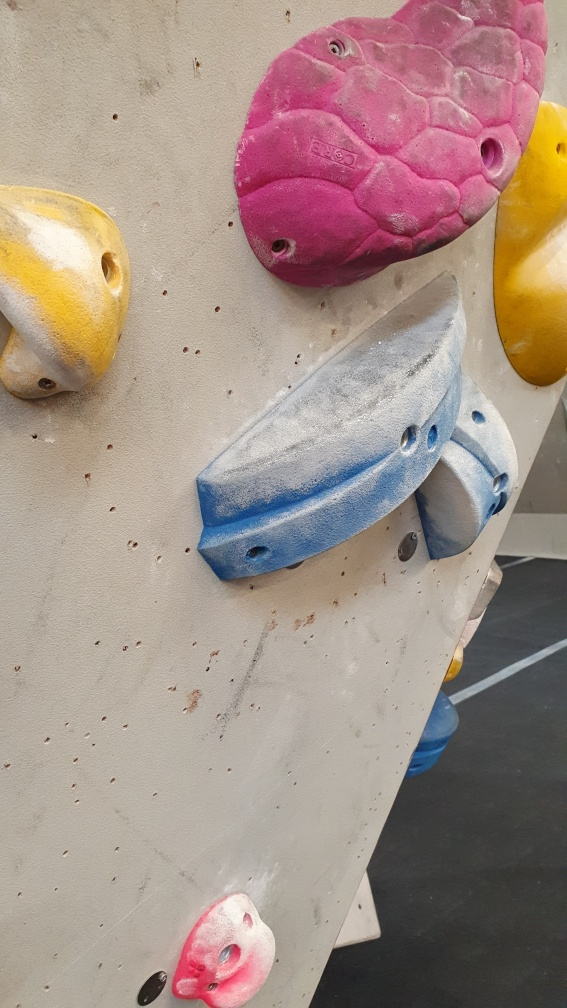Hand Start: (394, 530, 423, 564)
Pinch: (184, 264, 467, 590), (411, 373, 523, 560)
